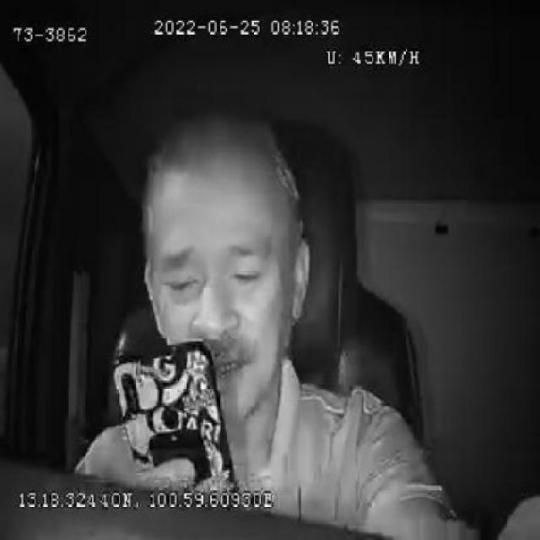phone: (111, 342, 239, 490)
